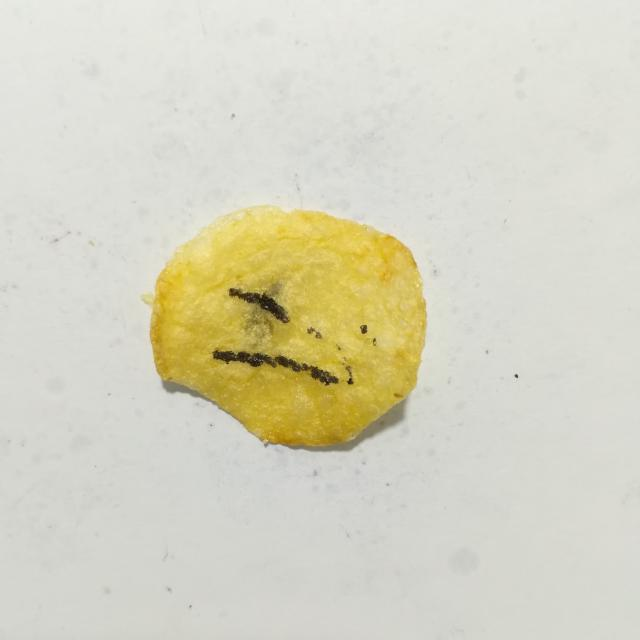chip: (142, 206, 426, 446)
damaged: (213, 351, 338, 385), (229, 288, 290, 323), (345, 365, 354, 385), (360, 325, 368, 334)
semi-damaged: (245, 303, 277, 353), (265, 282, 283, 302), (307, 327, 322, 339), (373, 338, 376, 345), (337, 346, 341, 350)
